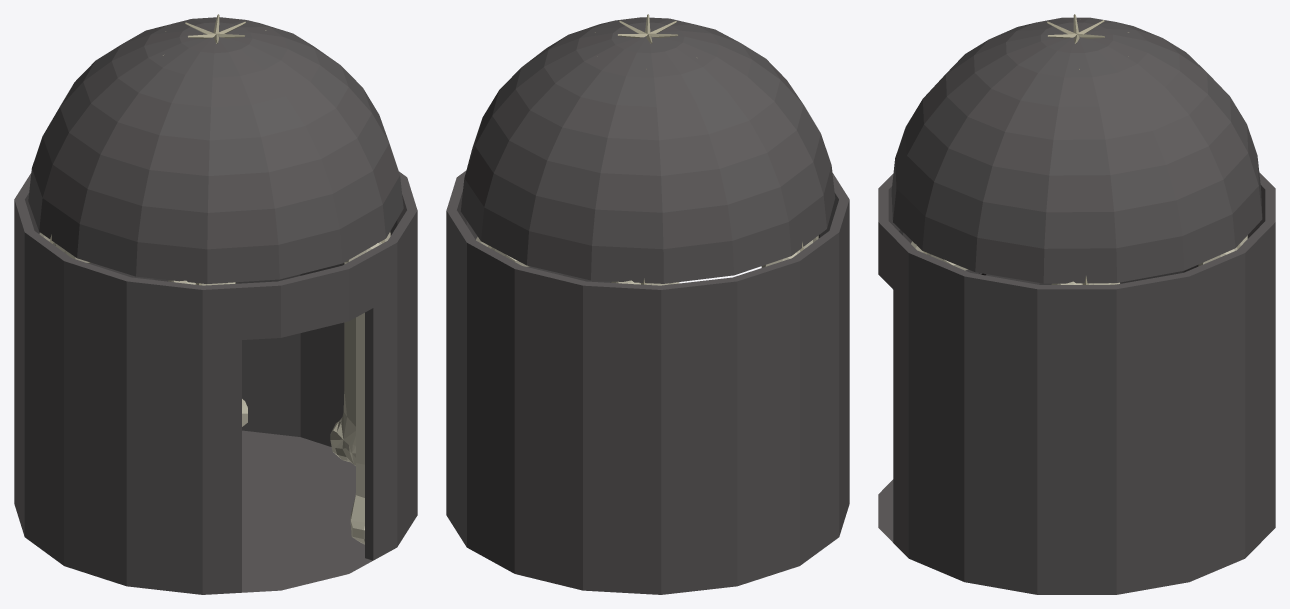
Rendered from ele_carB.gltf.
3 views of the same model, side by side, from view 1: azimuth 30°, elevation 25°; view 2: azimuth 150°, elevation 25°; view 3: azimuth 270°, elevation 25° (orthographic).
Parts seen in each view (by area): view 1: elevator_car, ele_curvedRoof, eleBones, eleRibs; view 2: elevator_car, ele_curvedRoof, eleRibs; view 3: elevator_car, ele_curvedRoof, eleRibs.
Part boxes in pixels (<box>): elevator_car: <box>14,171,417,594</box>; ele_curvedRoof: <box>28,17,403,283</box>; eleBones: <box>39,232,390,544</box>; eleRibs: <box>49,14,384,285</box>; elevator_car: <box>446,171,849,594</box>; ele_curvedRoof: <box>460,17,835,283</box>; eleRibs: <box>488,14,803,284</box>; elevator_car: <box>878,172,1275,594</box>; ele_curvedRoof: <box>891,17,1262,283</box>; eleRibs: <box>923,14,1240,284</box>.
Size of what is drawn, in the model's own units: 4.12 by 5.53 by 4.12.
Materials: 2 (2 with a texture image).
